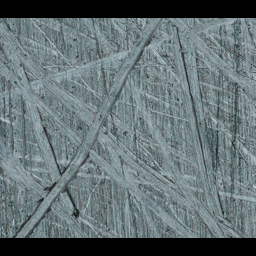d: (1, 18, 253, 237)
